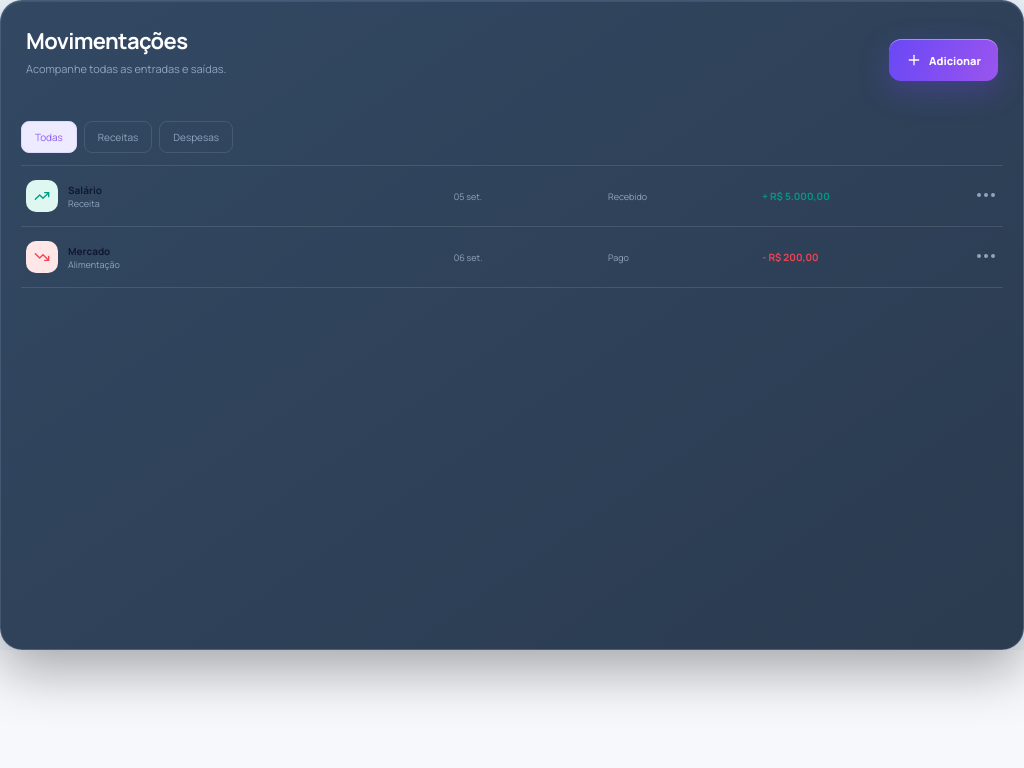
tela unificada de movimentações › renderiza a lista e filtra receitas e despesas
Expected: the text "Salário" is shown, x1=68 y1=182 x2=102 y2=196
Expected: the text "Mercado" is shown, x1=68 y1=244 x2=110 y2=258
Click the button "Receitas": (118,137) x1=84 y1=121 x2=152 y2=153
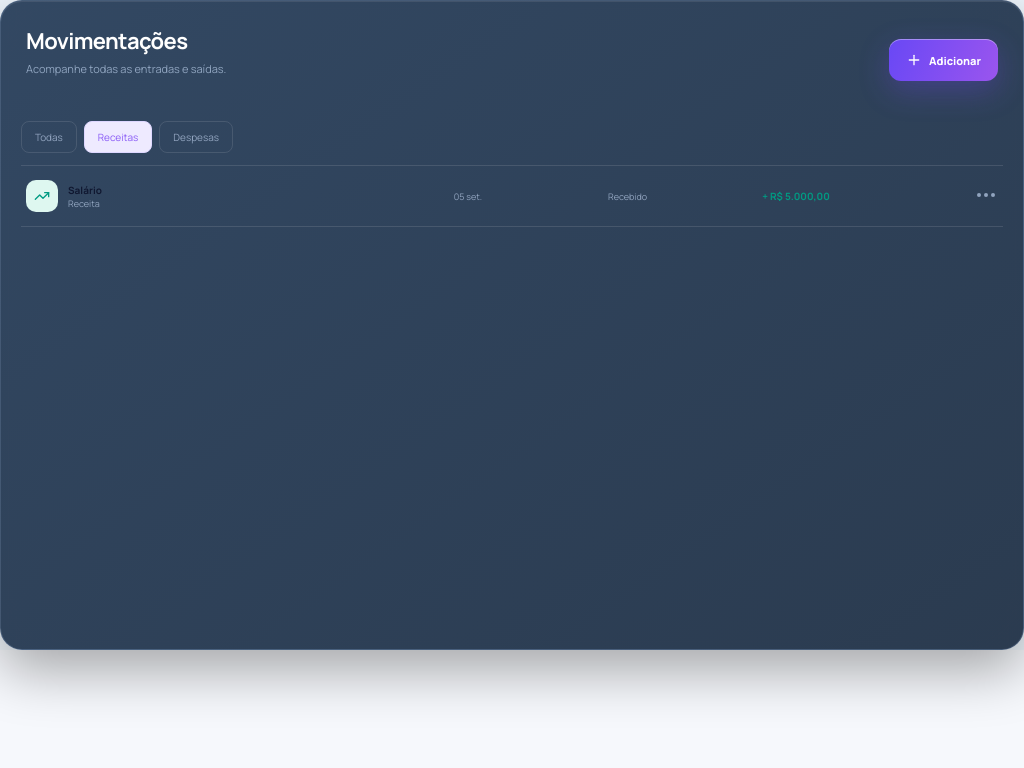
Expected: the text "Salário" is shown, x1=68 y1=182 x2=102 y2=196
Now the text "Mercado" is gone
Click the button "Despesas": (196,137) x1=159 y1=121 x2=233 y2=153
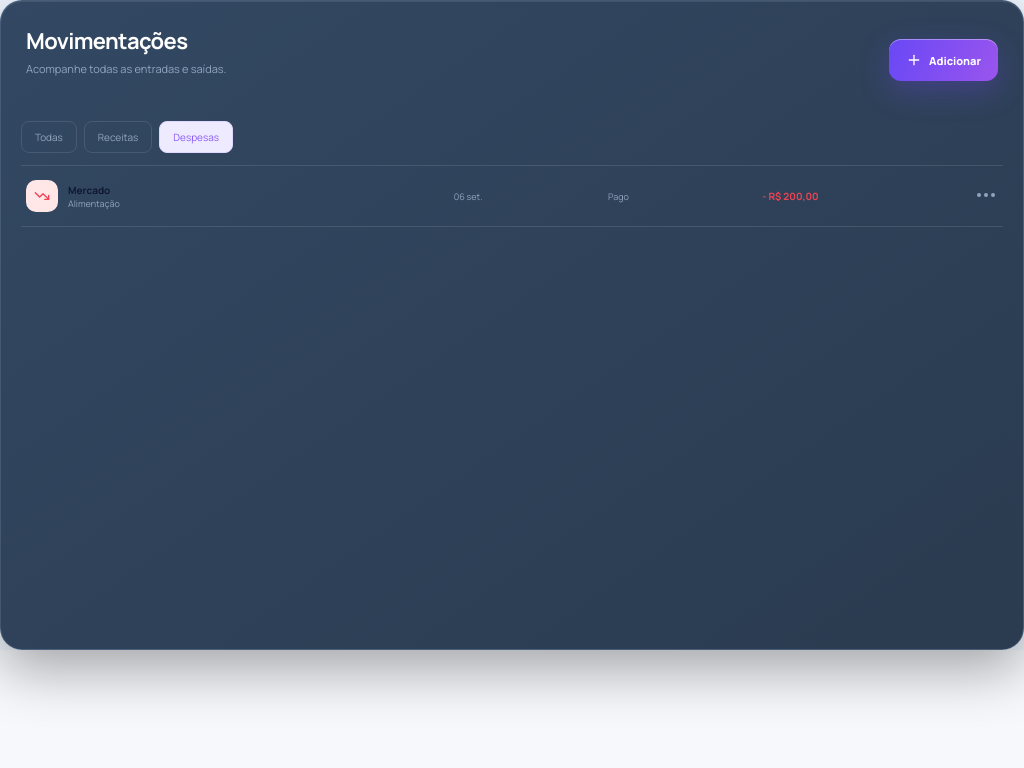
Now the text "Salário" is gone
Now the text "Mercado" is shown, box x1=68 y1=182 x2=110 y2=196
